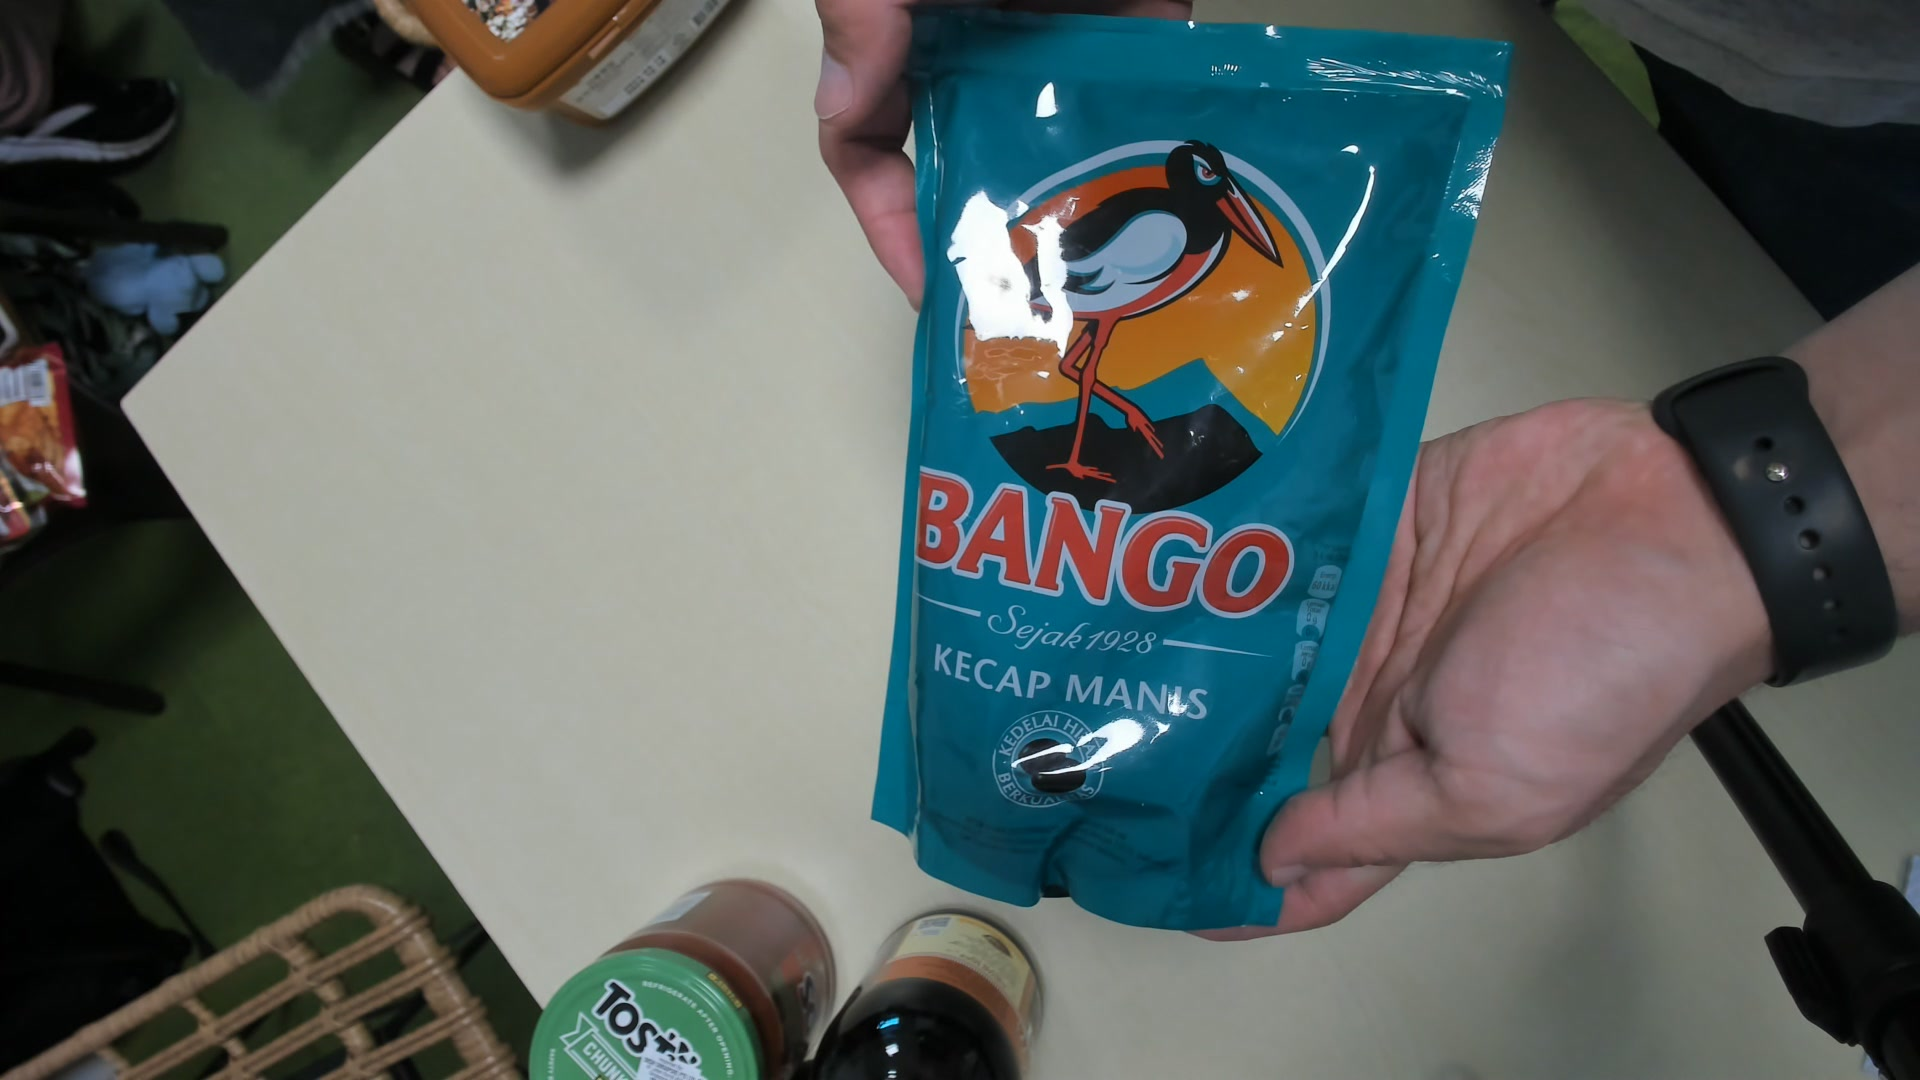OtherSauceDressing_500-599g_NonHalal_NonHealthy: (903, 25, 1509, 930)
